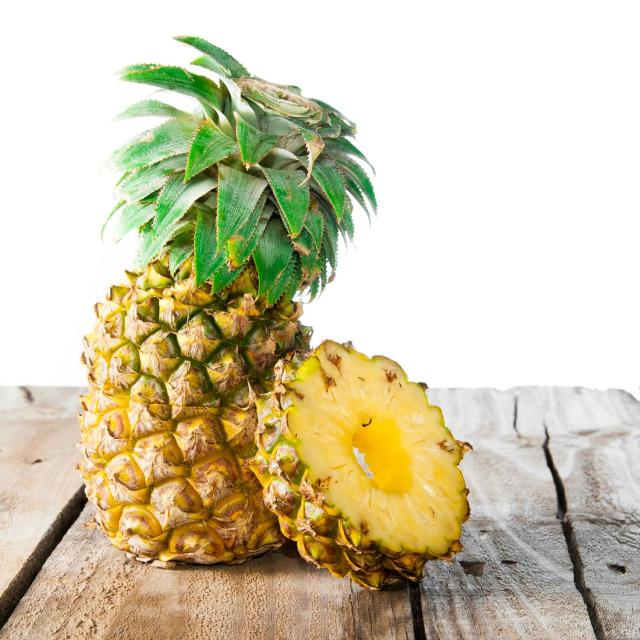pineapple: (96, 32, 308, 562), (271, 339, 471, 581)
